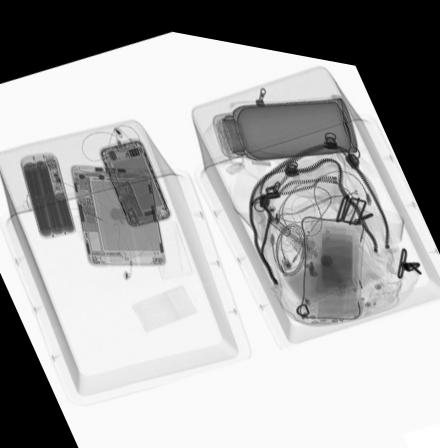Powerbank: (15, 147, 76, 238)
